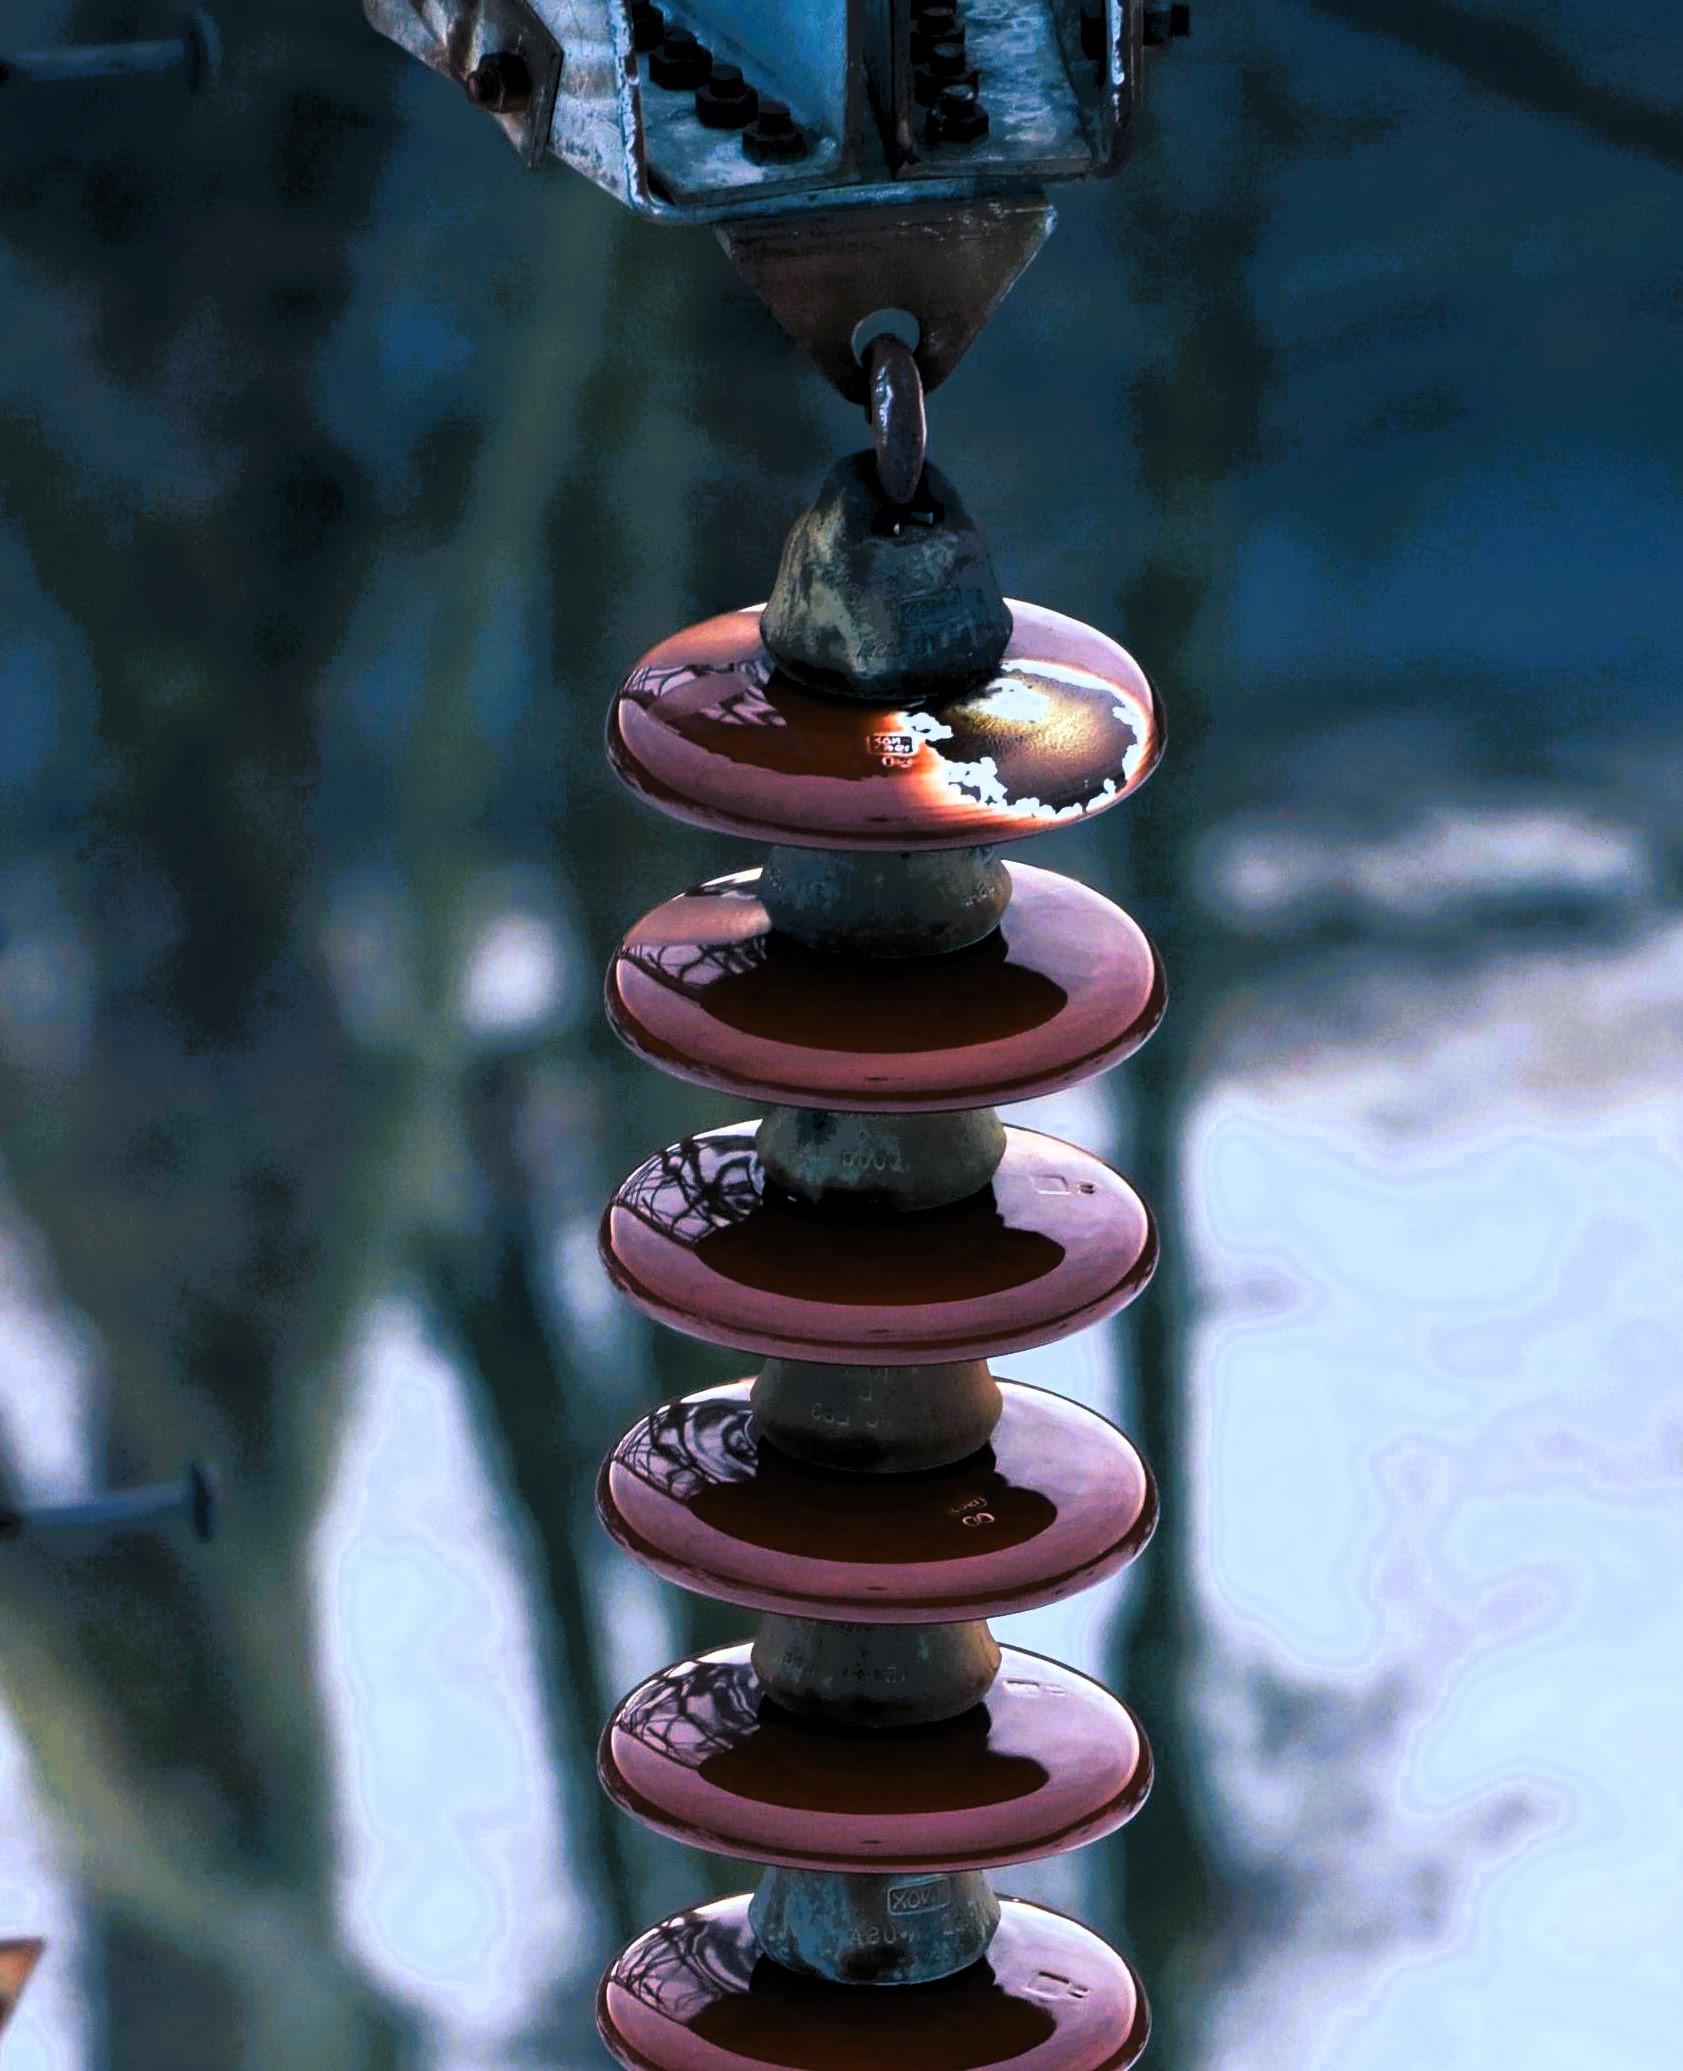Insulator flashover: (594, 562, 1182, 862)
